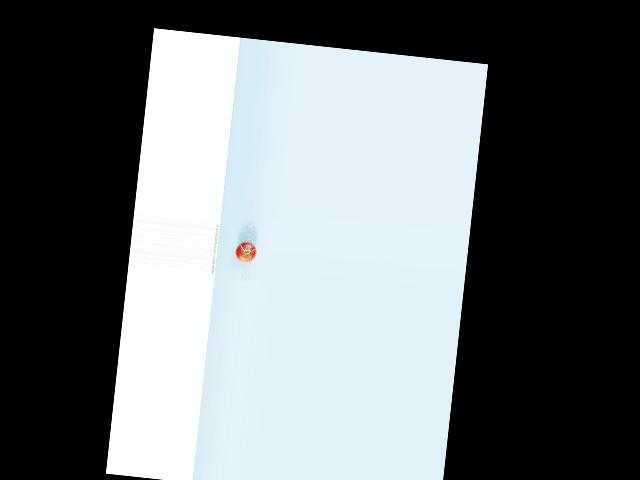tomato: (233, 241, 257, 263)
